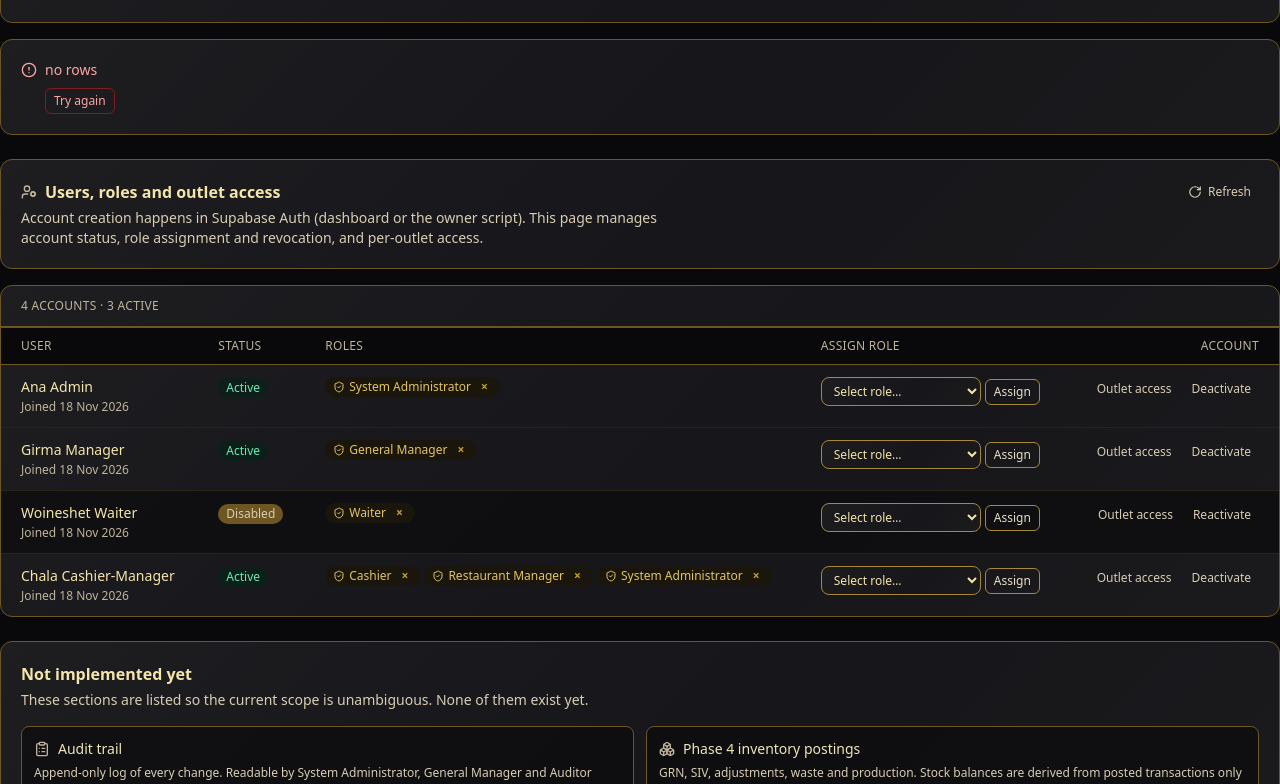
Settings — users › blocks revoking the only role from an account in the UI
(page scrolled)
Expected: the text "Ana Admin" is shown, x1=21 y1=377 x2=93 y2=396
Click the button named "Revoke System Administrator from Ana Admin".
click(485, 387)  # box x1=477 y1=379 x2=492 y2=395
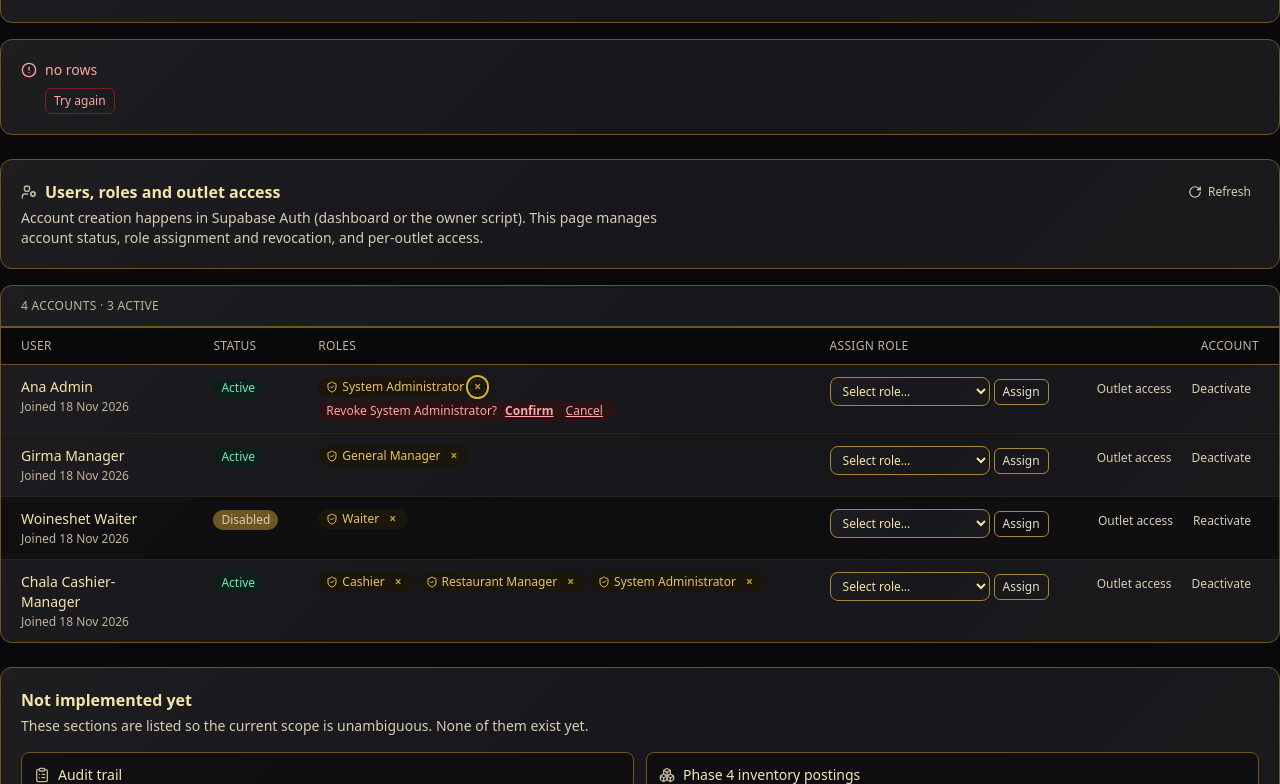
Click the button with aria-label "Confirm revoke System Administrator from Ana Admin".
click(529, 411)  # box x1=501 y1=403 x2=558 y2=419
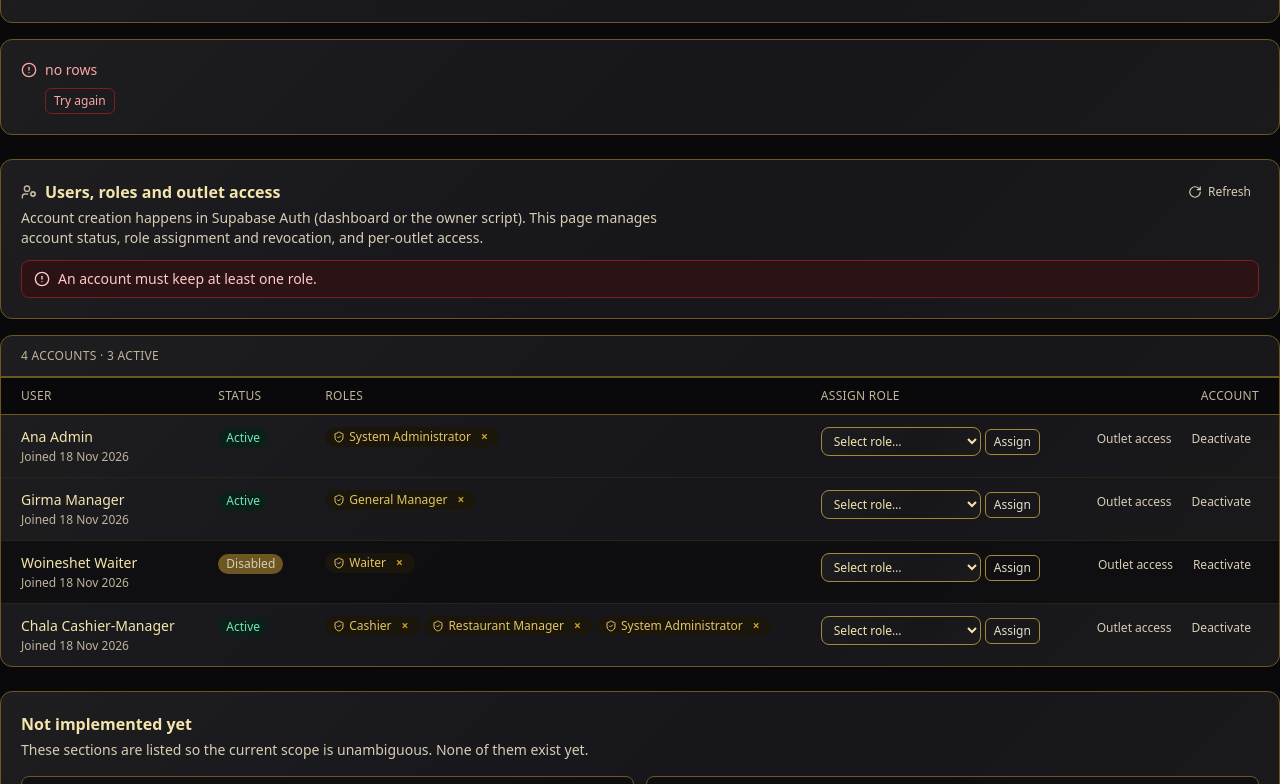
Result: the text "An account must keep at least one role." is shown at x1=58 y1=269 x2=317 y2=289
